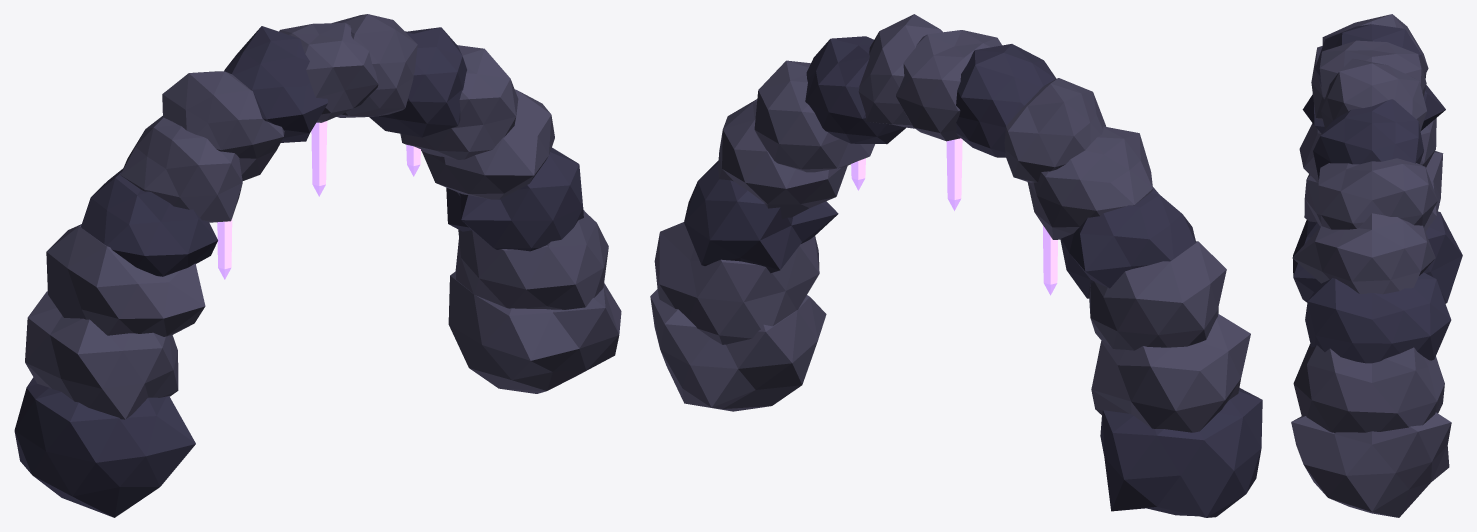
File: rock_arch.glb
3 views of the same model, side by side, from view 1: azimuth 30°, elevation 25°; view 2: azimuth 150°, elevation 25°; view 3: azimuth 270°, elevation 25° (orthographic). The views are drawn at different scales.
Parts seen in each view (by area): view 1: RockArch; view 2: RockArch; view 3: RockArch.
Boxes of the visible parts, box(x1,y1,x2,y2) form: RockArch: box(14, 14, 621, 517); RockArch: box(650, 14, 1262, 517); RockArch: box(1291, 14, 1462, 517).
Bounding box in the file's own units: 8.49 × 5.92 × 2.45.
